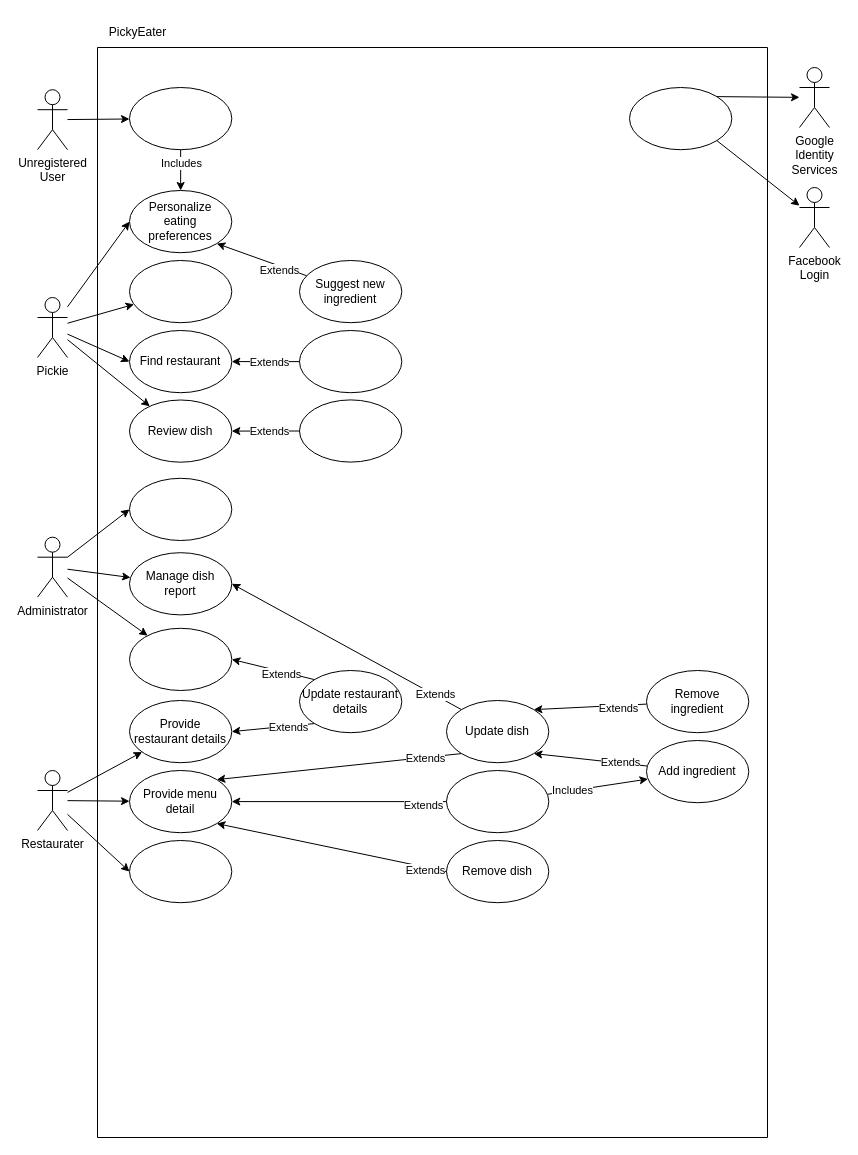
Image size: 858x1155. Some labels were removed from this diagram. The centre of each missing label's shape, as x and y in pixels:
"Add dish" belongs at point (497, 801).
"Create Pickies group" belongs at point (350, 361).
"Log in" belongs at point (680, 118).
"Manage new ingredient suggestion" belongs at point (180, 508).
"Manage restaurant report" belongs at point (180, 658).
"Report dish" belongs at point (350, 430).
"Report restaurant" belongs at point (180, 291).
"Sign in" belongs at point (180, 118).
"View statistics" belongs at point (180, 871).
